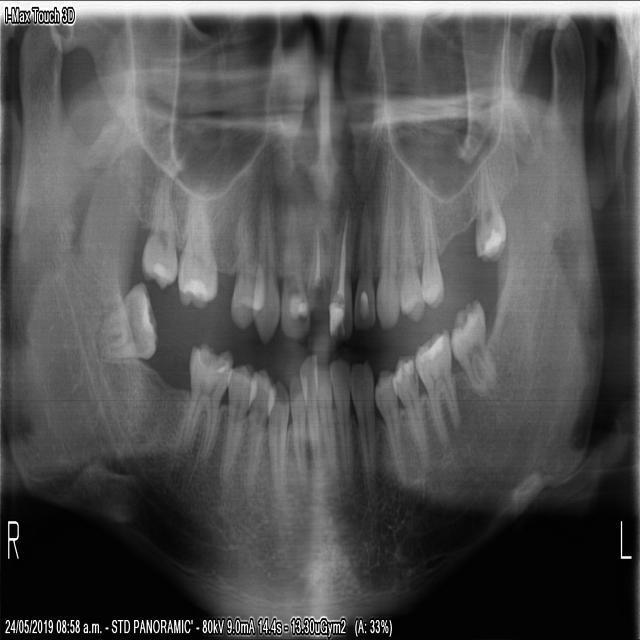LCD: (347, 351, 378, 495)
LCU: (373, 157, 400, 335)
LID: (324, 350, 355, 485), (310, 356, 339, 484)
LIU: (324, 199, 354, 346), (352, 191, 377, 336)
LMD: (410, 319, 463, 454), (446, 286, 499, 398)
LMU: (471, 137, 509, 268)
LPMD: (389, 345, 429, 468), (370, 359, 404, 489)
LPMU: (395, 174, 426, 329), (414, 179, 446, 315)
RCD: (264, 369, 290, 513)
RCU: (250, 180, 282, 349)
RID: (296, 349, 322, 480), (286, 365, 309, 489)
RIU: (278, 201, 312, 343), (304, 219, 327, 313)
RMD: (174, 335, 234, 475), (88, 270, 159, 366)
RMU: (174, 180, 219, 316), (137, 163, 177, 298)
RPMD: (215, 354, 259, 488), (244, 359, 276, 497)
RPMU: (225, 201, 266, 336)
